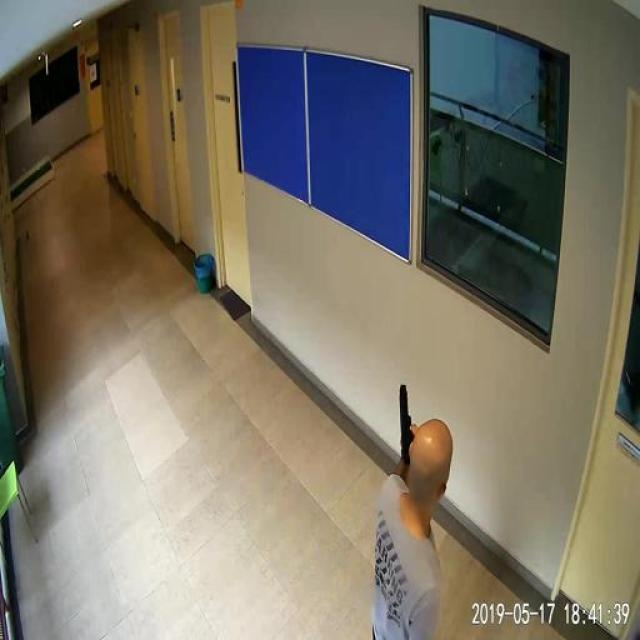Gun: (384, 378, 414, 458)
